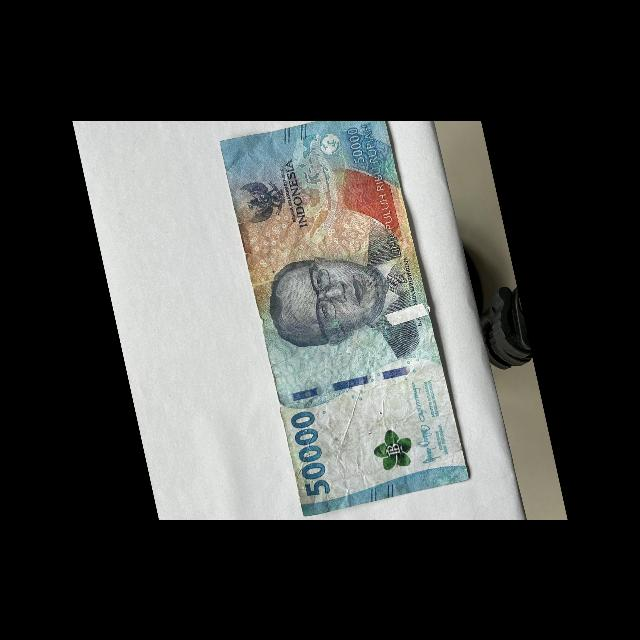Palsu-50k: (214, 99, 472, 522)
Tinta-Palsu-50k: (368, 423, 418, 473)
